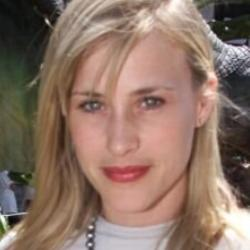face: (18, 1, 241, 232)
